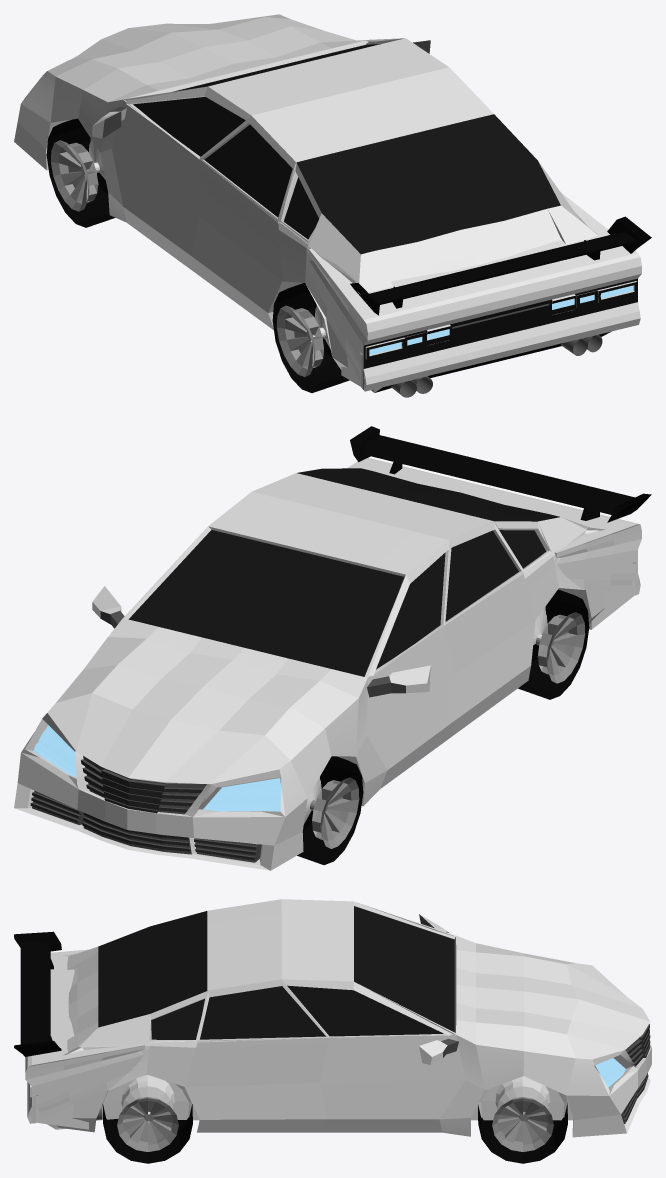
Rendered from car2.glb.
3 views of the same model, one above another, from view 1: azimuth 30°, elevation 25°; view 2: azimuth 150°, elevation 25°; view 3: azimuth 270°, elevation 25° (orthographic). The views are drawn at different scales.
Visible parts, largest first — view 1: Cube; view 2: Cube; view 3: Cube.
Part boxes in pixels (x1=…): Cube: x1=14, y1=14, x2=651, y2=397; Cube: x1=14, y1=426, x2=651, y2=870; Cube: x1=14, y1=899, x2=651, y2=1163.
Bounding box in the file's own units: 2.72 × 1.6 × 5.36.
